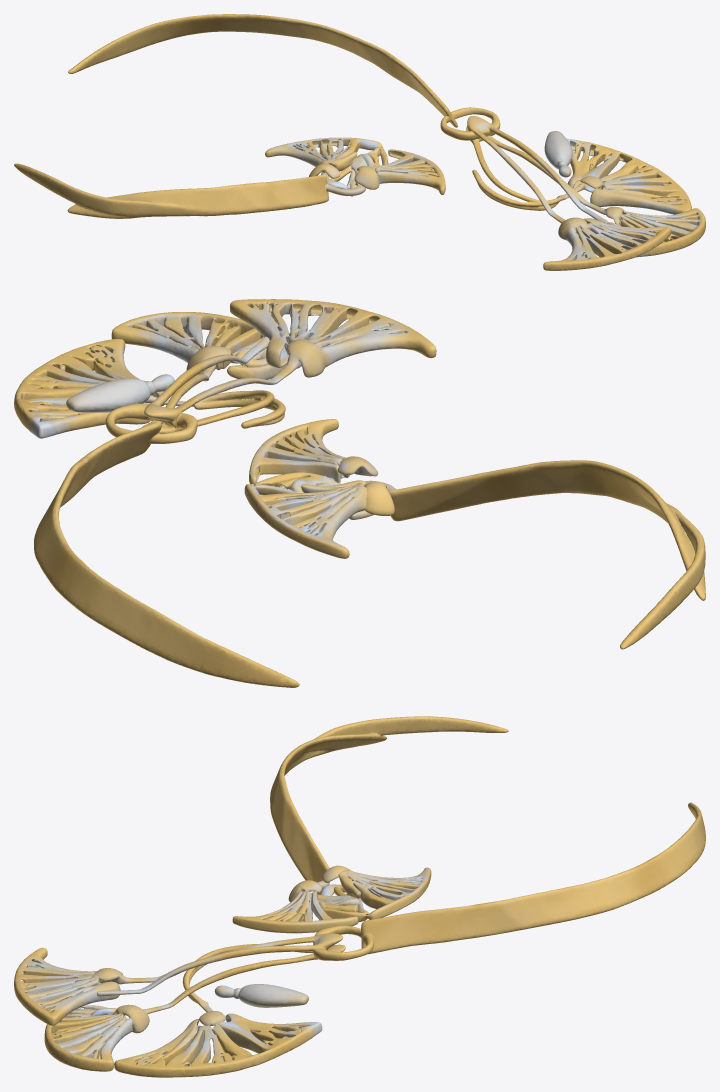
File: necklace.glb
3 renders of one model, top to bottom at view 1: azimuth 30°, elevation 25°; view 2: azimuth 150°, elevation 25°; view 3: azimuth 270°, elevation 25°, orthographic. The views are drawn at different scales.
Parts seen in each view (by area): view 1: world; view 2: world; view 3: world.
Boxes of the visible parts, x1,y1,x2,y2 form: world: [14, 14, 705, 270]; world: [14, 299, 705, 687]; world: [14, 716, 705, 1077].
Bounding box in the file's own units: 1 × 0.1529 × 1.
Materials: 1 (1 with a texture image).
